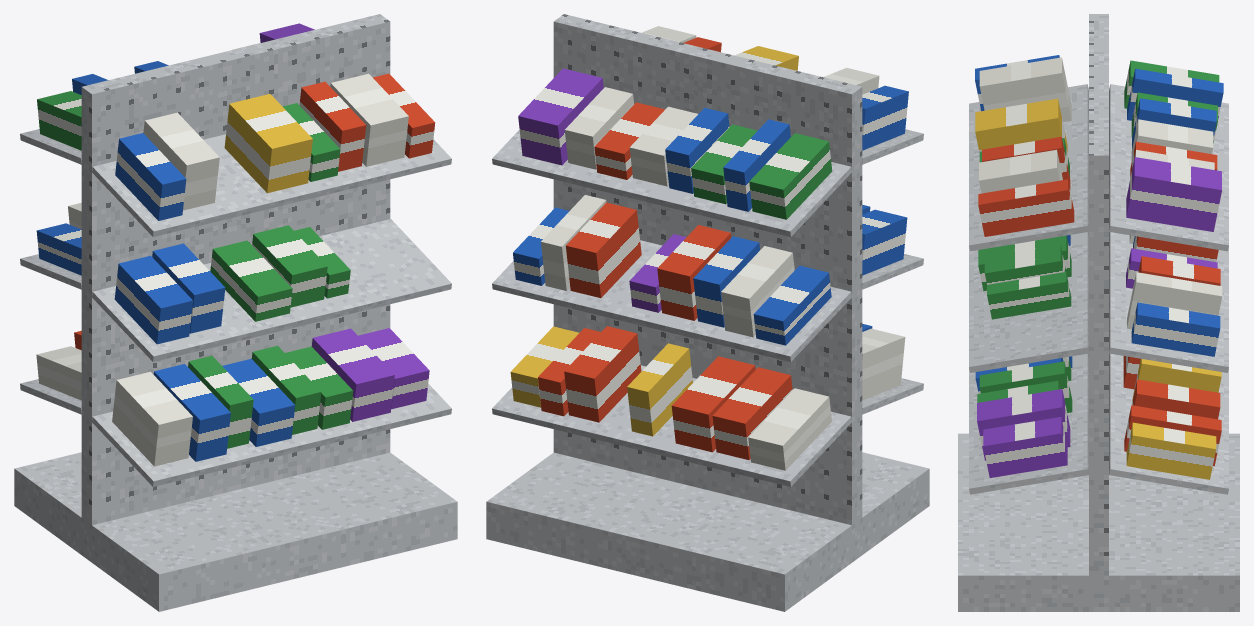
The model's file is f_rack.glb.
3 views of the same model, side by side, from view 1: azimuth 30°, elevation 25°; view 2: azimuth 150°, elevation 25°; view 3: azimuth 270°, elevation 25° (orthographic). The views are drawn at different scales.
Parts seen in each view (by area): view 1: block_spine, block_base, block_shelf11, block_shelf12, block_shelf10, block_goods12-0.092, block_goods10-0.460, block_goods11-0.460, block_goods100.194, block_goods11-0.134, block_goods12-0.460, block_goods120.245 (+19 smaller); view 2: block_spine, block_base, block_shelf-11, block_shelf-10, block_shelf-12, block_goods-110.165, block_goods-100.171, block_goods-120.291, block_goods-12-0.460, block_goods-10-0.460, block_goods-10-0.214, block_goods-10-0.334 (+24 smaller); view 3: block_base, block_spine, block_shelf11, block_shelf-12, block_goods-120.291, block_shelf12, block_shelf-11, block_shelf10, block_shelf-10, block_goods120.383, block_goods100.333, block_goods-100.369 (+28 smaller).
Boxes of the visible parts, left/top/right/bottom form: block_spine: left=81, top=14, right=390, bottom=525; block_base: left=14, top=452, right=457, bottom=611; block_shelf11: left=92, top=219, right=451, bottom=361; block_shelf12: left=92, top=134, right=451, bottom=236; block_shelf10: left=92, top=384, right=451, bottom=486; block_goods12-0.092: left=224, top=94, right=312, bottom=193; block_goods10-0.460: left=112, top=371, right=192, bottom=466; block_goods11-0.460: left=114, top=255, right=192, bottom=344; block_goods100.194: left=311, top=328, right=394, bottom=421; block_goods11-0.134: left=210, top=240, right=292, bottom=321; block_goods12-0.460: left=115, top=133, right=186, bottom=220; block_goods120.245: left=330, top=73, right=408, bottom=166; block_spine: left=553, top=14, right=862, bottom=525; block_base: left=486, top=452, right=929, bottom=611; block_shelf-11: left=492, top=240, right=851, bottom=361; block_shelf-10: left=492, top=365, right=851, bottom=486; block_shelf-12: left=492, top=130, right=851, bottom=236; block_goods-110.165: left=566, top=202, right=641, bottom=297; block_goods-100.171: left=564, top=326, right=641, bottom=422; block_goods-120.291: left=518, top=68, right=603, bottom=165; block_goods-12-0.460: left=749, top=133, right=832, bottom=219; block_goods-10-0.460: left=748, top=388, right=831, bottom=470; block_goods-10-0.214: left=671, top=356, right=755, bottom=452; block_goods-10-0.334: left=712, top=367, right=792, bottom=459; block_base: left=958, top=433, right=1239, bottom=611; block_spine: left=1089, top=14, right=1108, bottom=575; block_shelf11: left=969, top=232, right=1088, bottom=372; block_shelf-12: left=1109, top=84, right=1228, bottom=251; block_goods-120.291: left=1126, top=157, right=1221, bottom=231; block_shelf12: left=969, top=84, right=1088, bottom=251; block_shelf-11: left=1109, top=232, right=1228, bottom=372; block_shelf10: left=969, top=353, right=1088, bottom=494; block_shelf-10: left=1109, top=353, right=1228, bottom=494; block_goods120.383: left=978, top=179, right=1074, bottom=236; block_goods100.333: left=983, top=417, right=1067, bottom=477; block_goods-100.369: left=1126, top=422, right=1216, bottom=479.
Bounding box in the file's own units: 1 × 1.5 × 0.84.
1 material, 1 textured.
